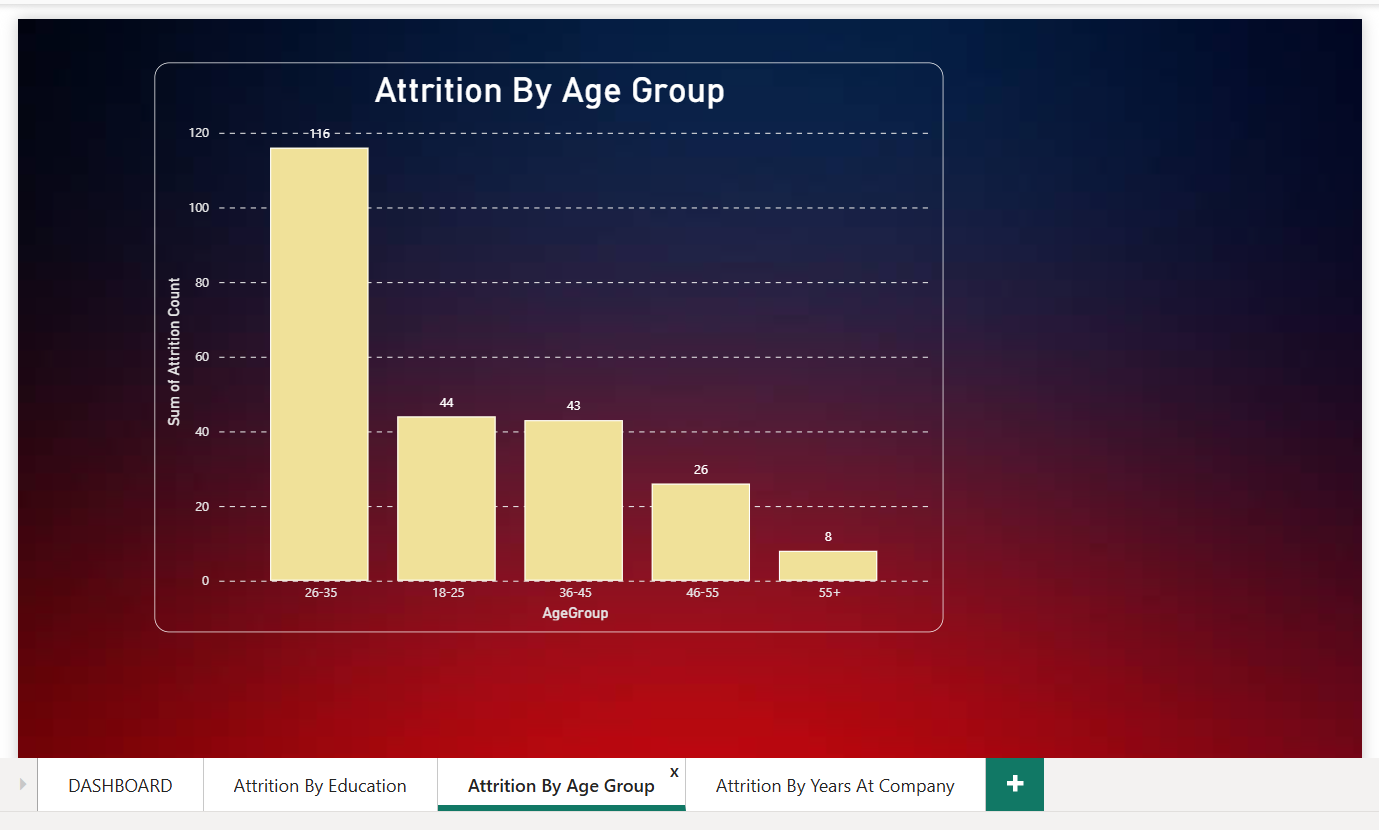

The page's visual inventory and layout, read from the dashboard file:
{"tool":"powerbi","page":{"name":"Attrition By Age Group","canvas":[1280,720],"ordinal":2},"visuals":[{"type":"clusteredColumnChart","title":"Attrition By Age Group","fields":{"Y":["Sum(HR_Analytics.Attrition Count)"],"Category":["HR_Analytics.AgeGroup"]},"box":[130,41.4,751.4,542.9],"z":0}]}

Visuals, with their boxes on the page's 1280x720 design canvas (x1, y1, x2, y2). These are canvas units, not pixel positions in the 1379x830 screenshot, which may show the page scaled, cropped or inside an application window:
"Attrition By Age Group" clusteredColumnChart: <region>130, 41, 881, 584</region>
